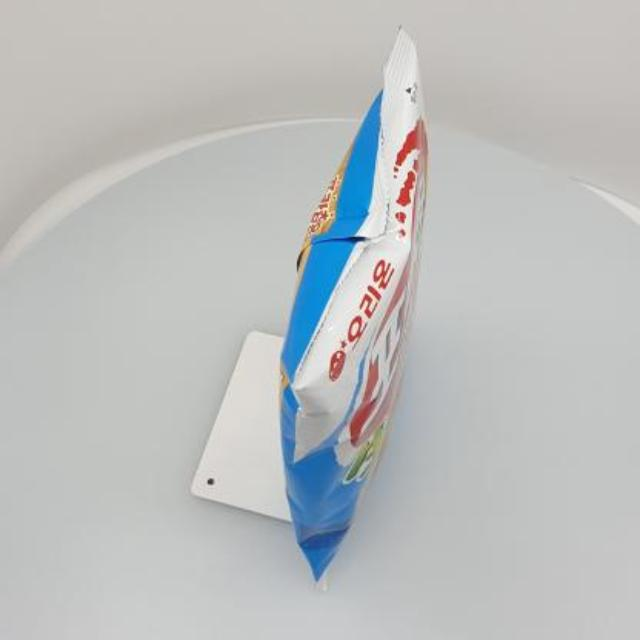snack_bag: (206, 11, 459, 600)
